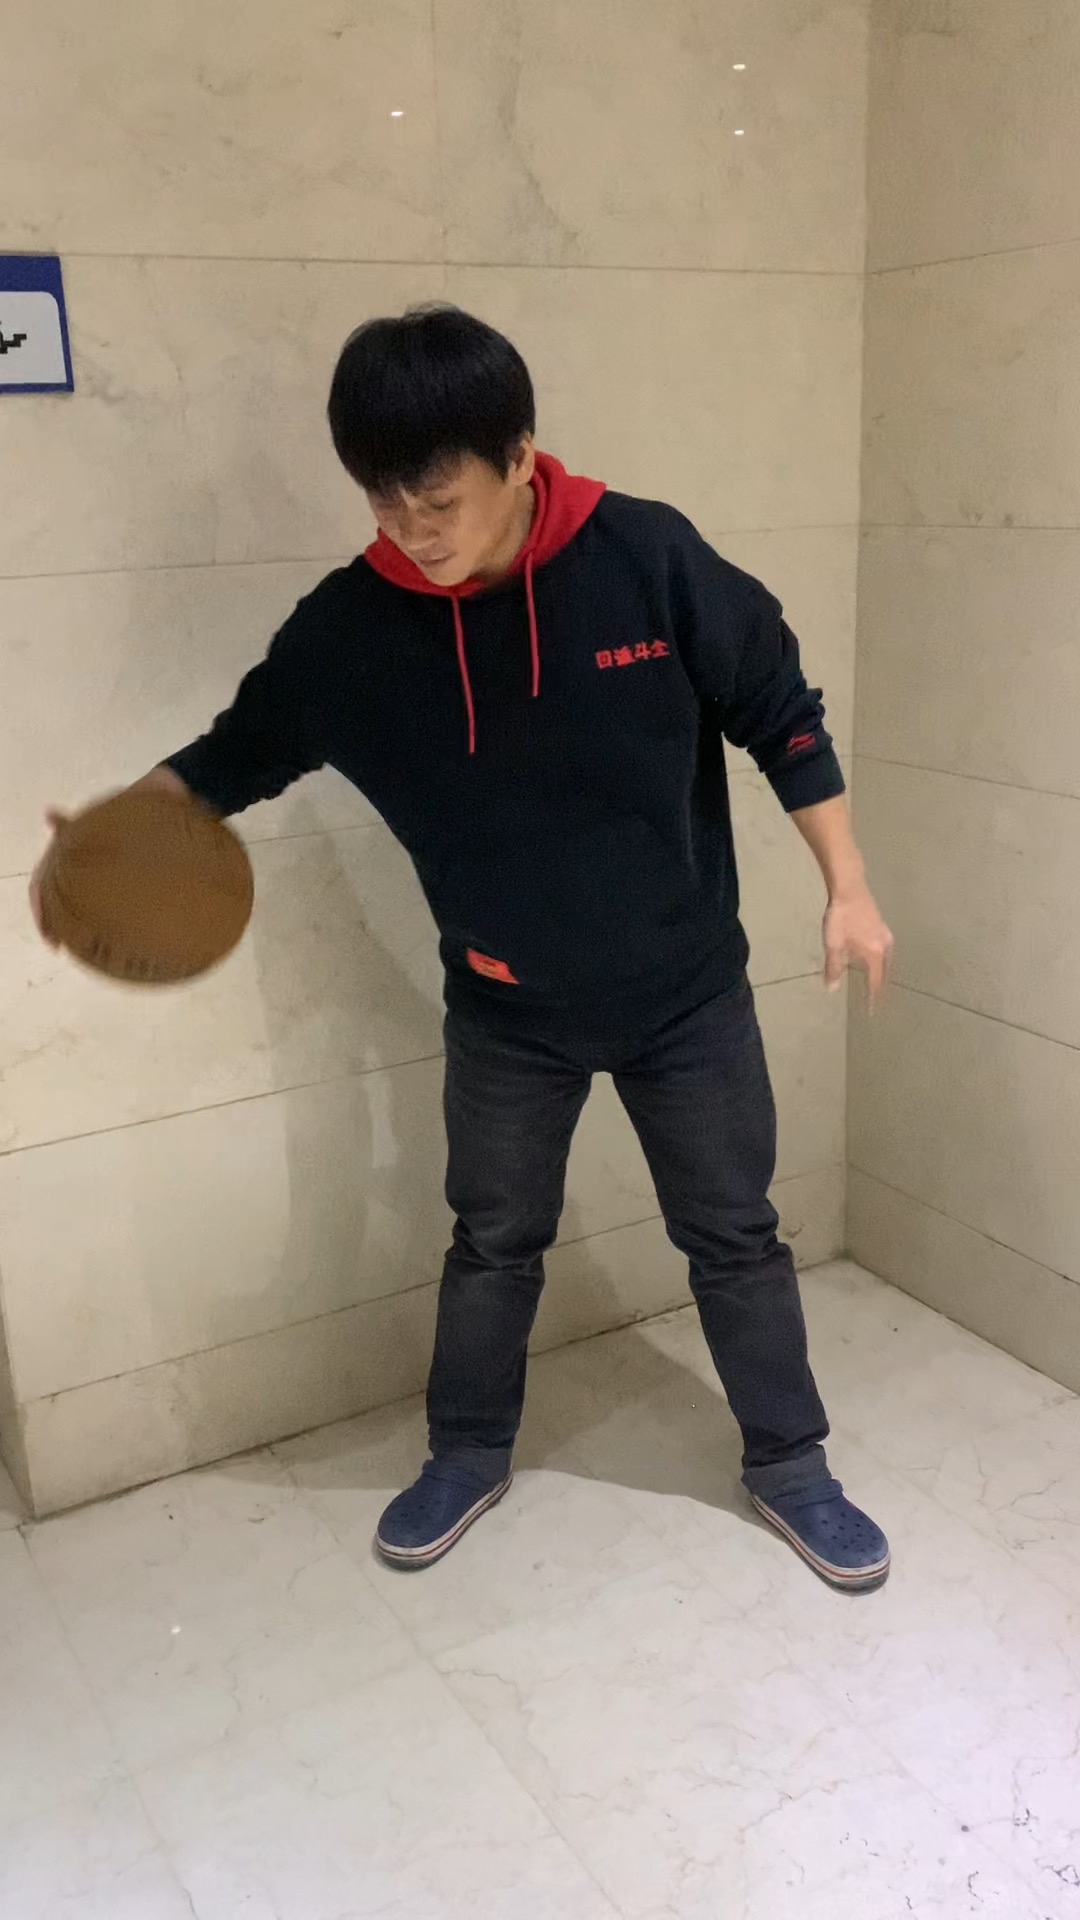ball: (44, 786, 264, 994)
